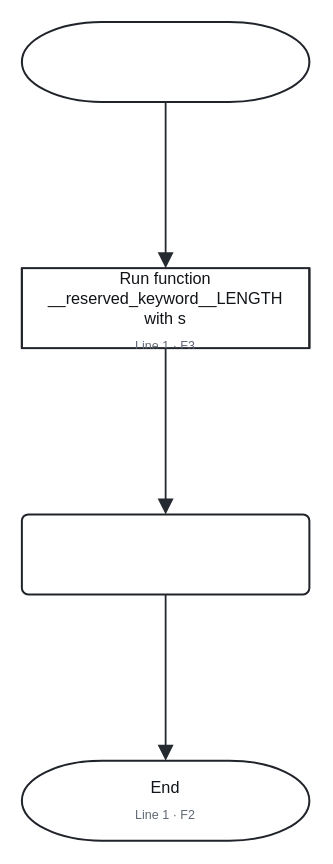
Some shapes in this 333 by 864 pixel diagram are drawn without their labels. The box of each missing label's shape, as (x1, y1, x2, y2) in pixels:
Return the length of s Line 2 · F4: (20, 513, 310, 595)
Start Line 1 · F1: (20, 20, 310, 102)
